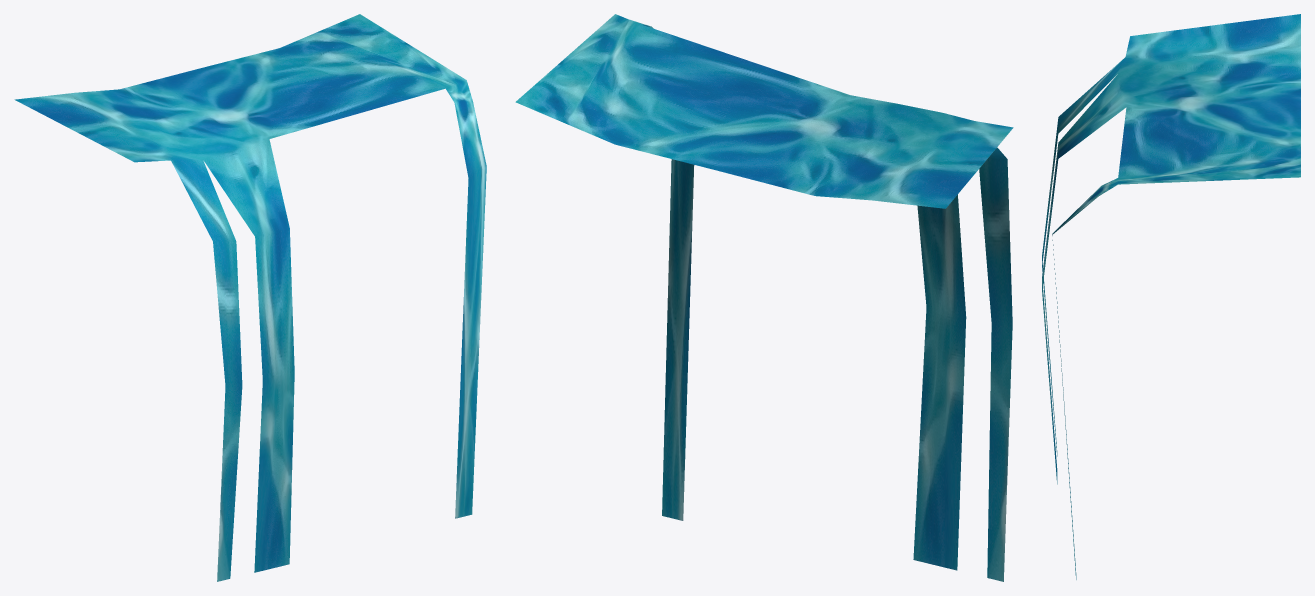
Rendered from Swamp_dizuo03_waterdown.FBX.
3 views of the same model, side by side, from view 1: azimuth 30°, elevation 25°; view 2: azimuth 150°, elevation 25°; view 3: azimuth 270°, elevation 25° (orthographic). The views are drawn at different scales.
Visible parts, largest first — view 1: Plane002; view 2: Plane002; view 3: Plane002.
Boxes of the visible parts, <box> form: Plane002: <box>14,14,486,581</box>; Plane002: <box>515,14,1013,581</box>; Plane002: <box>1042,14,1300,579</box>.
Size of the model in its own units: 5.1 by 5.64 by 3.26.
